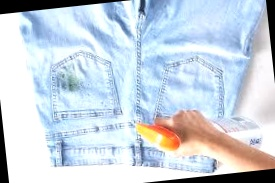earth: (58, 70, 84, 92)
